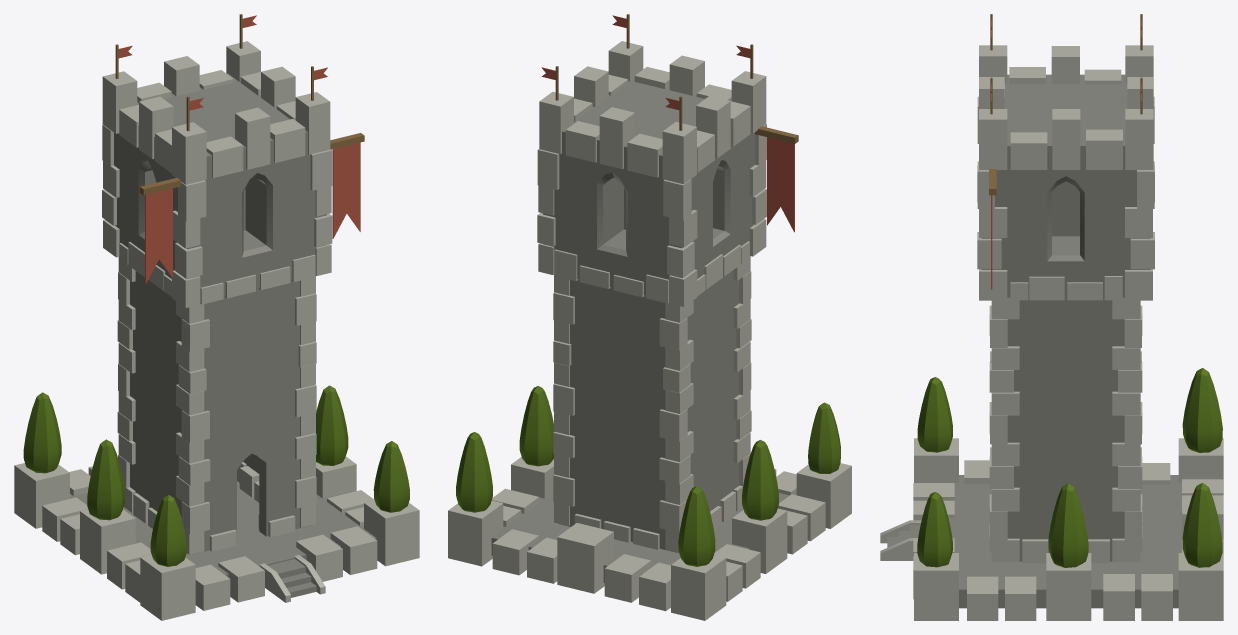
The model's file is Watch Tower-cMxuj2gt7D.glb.
3 views of the same model, side by side, from view 1: azimuth 30°, elevation 25°; view 2: azimuth 150°, elevation 25°; view 3: azimuth 270°, elevation 25° (orthographic). The views are drawn at different scales.
Visible parts, largest first — view 1: WatchTower_SecondAge_Level3; view 2: WatchTower_SecondAge_Level3; view 3: WatchTower_SecondAge_Level3.
Boxes of the visible parts, <box> form: WatchTower_SecondAge_Level3: <box>14,14,419,620</box>; WatchTower_SecondAge_Level3: <box>448,14,851,620</box>; WatchTower_SecondAge_Level3: <box>880,14,1223,620</box>.
Bounding box in the file's own units: 0.8133 × 1.45 × 0.892.
